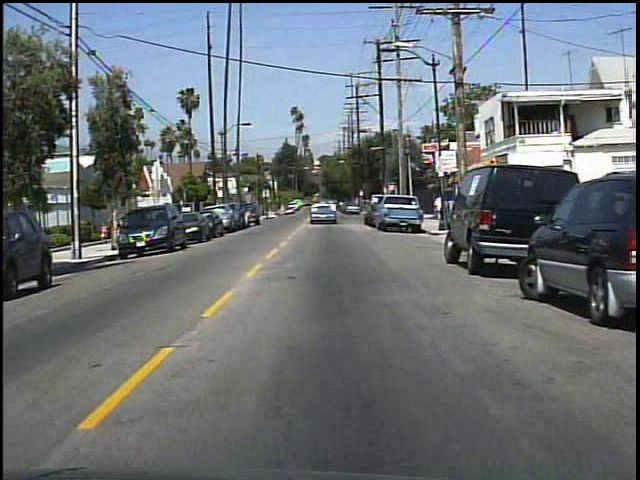person: (430, 194, 447, 225)
